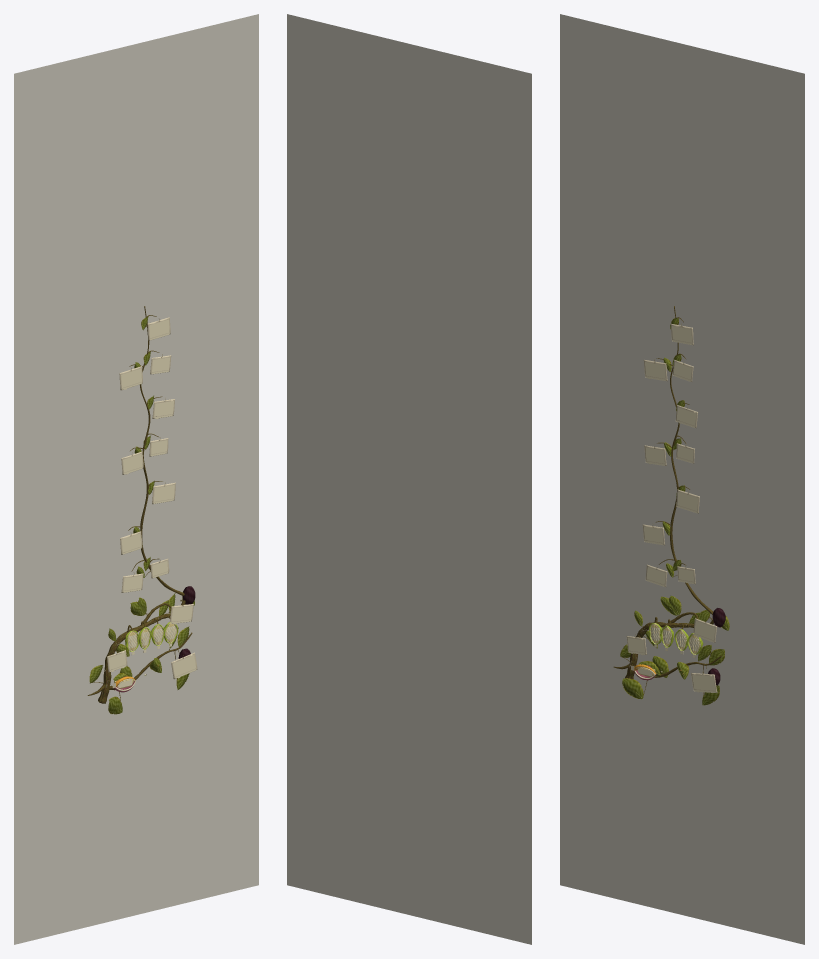
3 views of the same model, side by side, from view 1: azimuth 30°, elevation 25°; view 2: azimuth 150°, elevation 25°; view 3: azimuth 330°, elevation 25° (orthographic).
Visible parts, largest first — view 1: specimen_sweep, gnarled_diagonal_branch, climbing_specimen_branch; view 2: specimen_sweep; view 3: specimen_sweep, climbing_specimen_branch.
Part boxes in pixels (<box>): specimen_sweep: <box>14,14,258,944</box>; gnarled_diagonal_branch: <box>98,600,185,703</box>; climbing_specimen_branch: <box>140,306,184,595</box>; specimen_sweep: <box>287,14,531,944</box>; specimen_sweep: <box>560,14,804,944</box>; climbing_specimen_branch: <box>670,306,713,614</box>.
Bounding box in the file's own units: 50 × 170 × 5.85.
17 materials, 5 textured.
